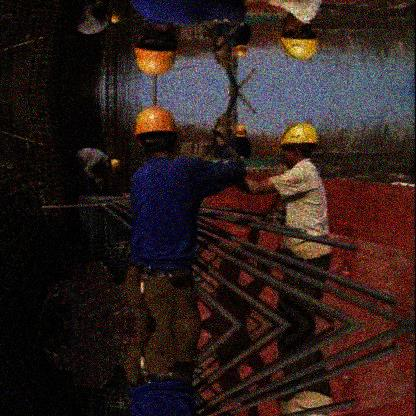helmet: (134, 24, 178, 75), (134, 108, 178, 155), (274, 123, 318, 167), (281, 15, 319, 61), (105, 10, 124, 25), (106, 159, 121, 174), (235, 41, 249, 57), (235, 125, 246, 141)
